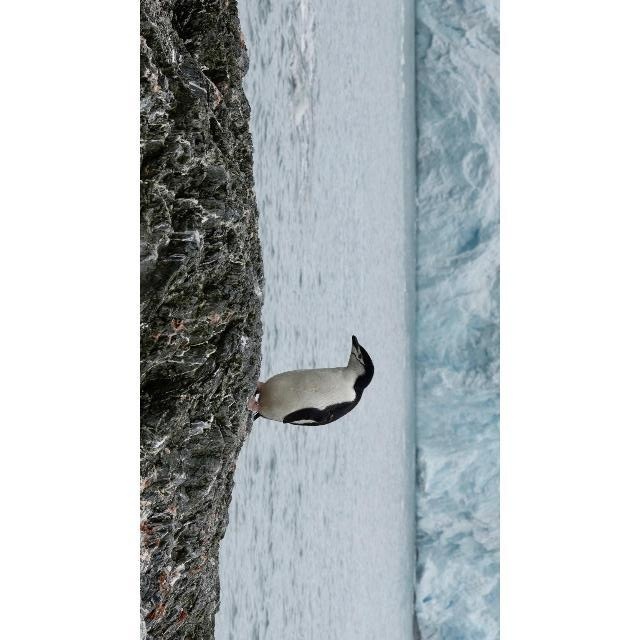penguin: (245, 335, 375, 431)
